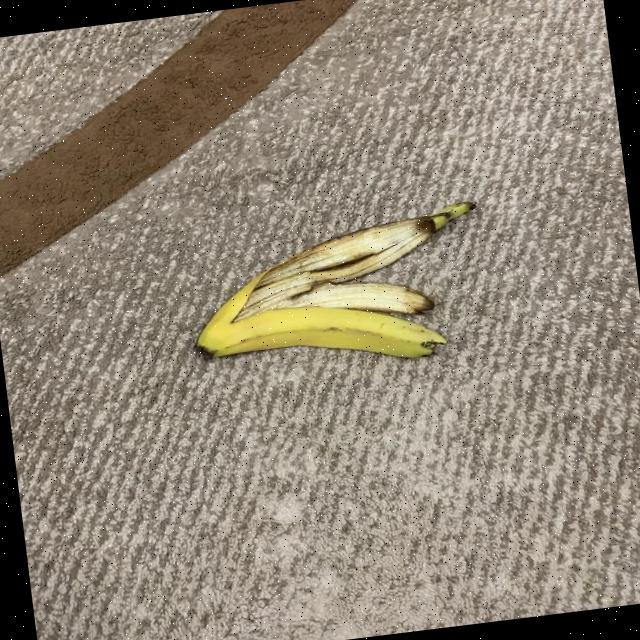banana-peel: (180, 196, 494, 385)
